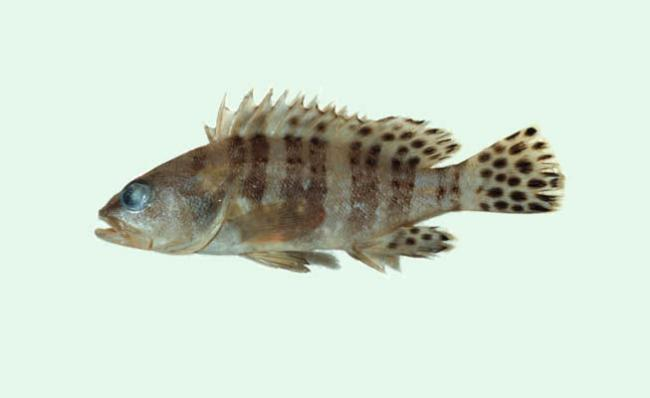fish: (93, 84, 569, 276)
